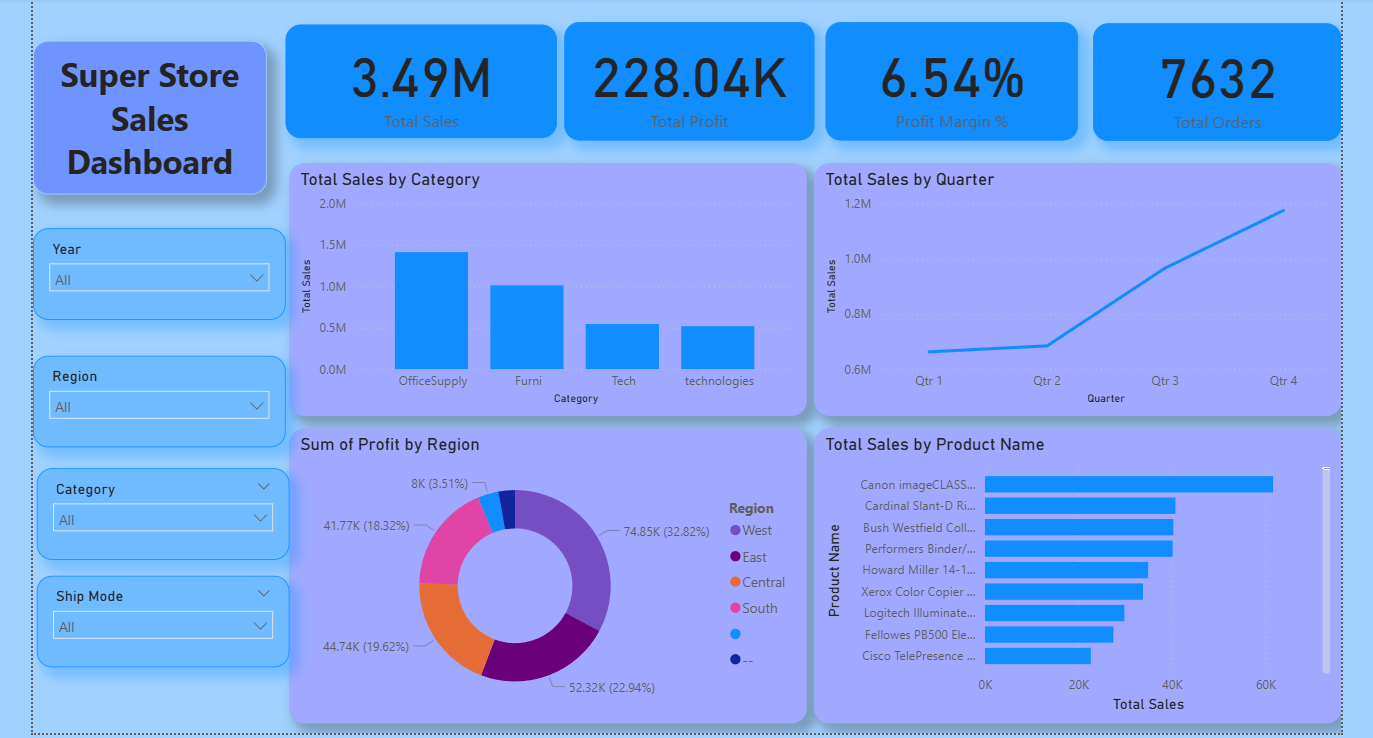

Layout of this report page (visuals, bound fields, positions):
{"tool":"powerbi","page":{"name":"Page 1","canvas":[1280,720],"ordinal":0},"visuals":[{"type":"card","fields":{"Values":["Superstore.Total Sales"]},"box":[247,26.9,265.4,111.3],"z":0},{"type":"card","fields":{"Values":["Superstore.Total Profit"]},"box":[519.7,24.5,244.6,116.2],"z":1000},{"type":"card","fields":{"Values":["Superstore.Profit Margin %"]},"box":[775.3,24.5,247,116.2],"z":2000},{"type":"card","fields":{"Values":["Superstore.Total Orders"]},"box":[1037,25.7,243.3,114.9],"z":3000},{"type":"clusteredColumnChart","fields":{"Category":["Superstore.Category"],"Y":["Superstore.Total Sales"]},"box":[250.7,162.6,506.3,247],"z":4000},{"type":"donutChart","fields":{"Category":["Superstore.Region"],"Y":["Sum(Superstore.Profit)"]},"box":[250.7,421.9,506.3,288.6],"z":5000},{"type":"lineChart","fields":{"Category":["Superstore.Order Date.Variation.Date Hierarchy.Quarter"],"Y":["Superstore.Total Sales"]},"box":[764.3,162.6,516,247],"z":6000},{"type":"barChart","fields":{"Category":["Superstore.Product Name"],"Y":["Superstore.Total Sales"]},"box":[764.3,421.9,516,288.6],"z":7000},{"type":"slicer","fields":{"Values":["Superstore.Year"]},"box":[0,226.2,247,89.3],"z":8000},{"type":"slicer","fields":{"Values":["Superstore.Region"]},"box":[0,351,247,89.3],"z":9000},{"type":"slicer","fields":{"Values":["Superstore.Category"]},"box":[3.7,461,247,89.3],"z":10000},{"type":"slicer","fields":{"Values":["Superstore.Ship Mode"]},"box":[3.7,566.2,247,89.3],"z":11000},{"type":"textbox","box":[0,42.8,228.7,150.4],"z":11001}]}

Visuals, with their boxes in screenshot pixels (x1, y1, x2, y2):
card - Superstore.Total Sales: l=280, t=17, r=557, b=134
card - Superstore.Total Profit: l=565, t=15, r=821, b=136
card - Superstore.Profit Margin %: l=832, t=15, r=1091, b=136
card - Superstore.Total Orders: l=1106, t=16, r=1361, b=136
clusteredColumnChart - Superstore.Category x Superstore.Total Sales: l=284, t=159, r=813, b=418
donutChart - Superstore.Region x Sum(Superstore.Profit): l=284, t=431, r=813, b=732
lineChart - Superstore.Order Date.Variation.Date Hierarchy.Quarter x Superstore.Total Sales: l=821, t=159, r=1361, b=418
barChart - Superstore.Product Name x Superstore.Total Sales: l=821, t=431, r=1361, b=732
slicer - Superstore.Year: l=21, t=226, r=280, b=319
slicer - Superstore.Region: l=21, t=356, r=280, b=450
slicer - Superstore.Category: l=25, t=471, r=284, b=565
slicer - Superstore.Ship Mode: l=25, t=581, r=284, b=675
textbox: l=21, t=34, r=261, b=191
